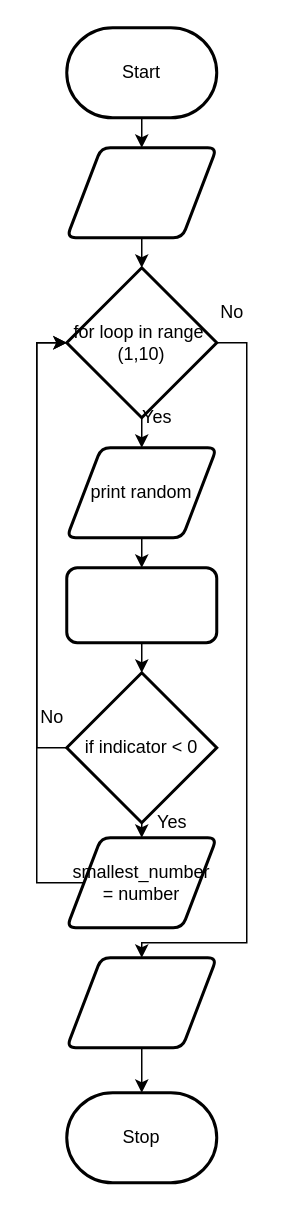
Some shapes in this 285 by 1209 pixel diagram are drawn without their labels. The shapes that lost their labels are listed below. From the top down, each one's centre as x and y in pixels, then its label:
point 141,192: import random
point 141,605: indicator = number - smallest_number
point 141,1002: print smallest_number
